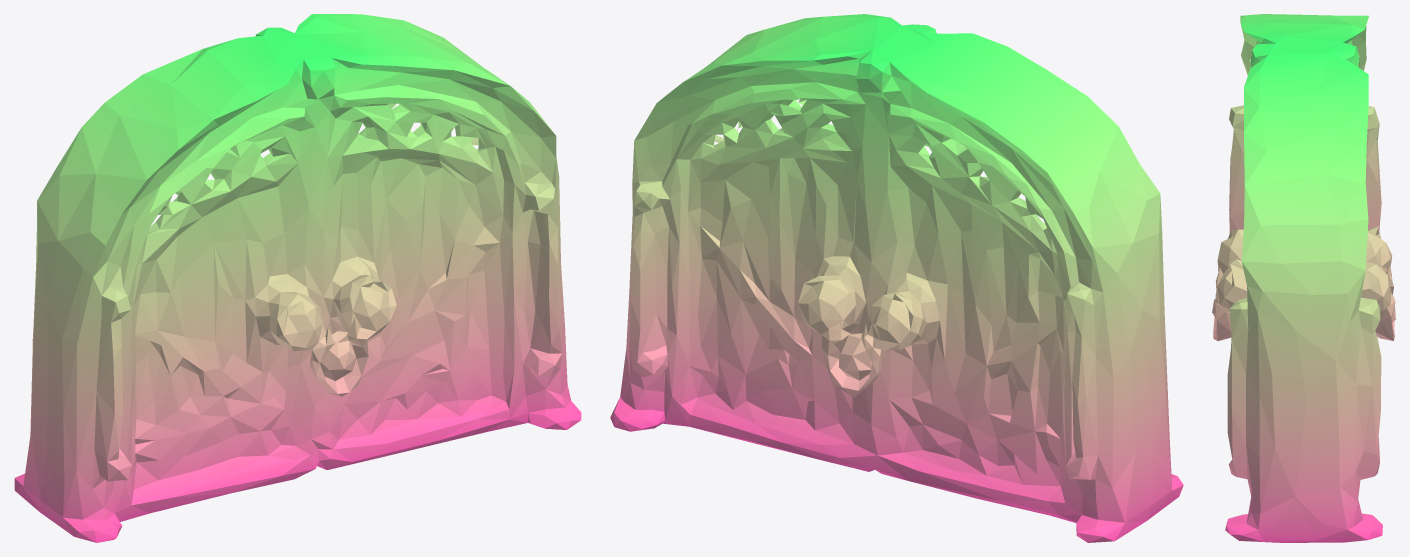
File: 175_cyb_laser_gradient_fish_scales_2910_2026_10_03_c52774.glb
The picture shows the model from 3 angles, left to right: view 1: azimuth 30°, elevation 25°; view 2: azimuth 150°, elevation 25°; view 3: azimuth 270°, elevation 25°; orthographic projection. The views are drawn at different scales.
Parts seen in each view (by area): view 1: geometry_0; view 2: geometry_0; view 3: geometry_0.
Part boxes in pixels (x1,y1,x2,y2): geometry_0: (14,14,581,542); geometry_0: (610,14,1183,542); geometry_0: (1212,14,1395,542).
Size of the model in its own units: 1 by 0.779 by 0.3385.
